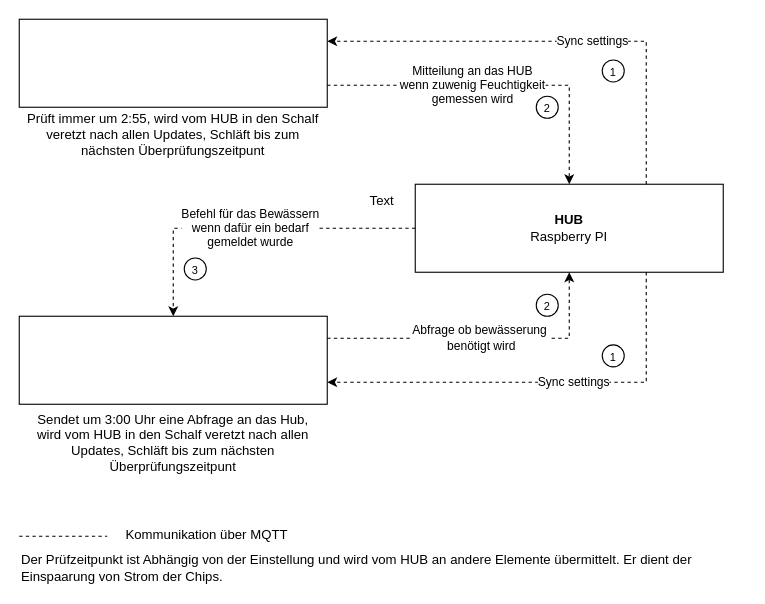
Image size: 765x604. Some labels were removed from this diagram. The centre of each missing label's shape, as x and y in pixels:
Sensor Feuchtigkeitssensor & Chip: [172,62]
Wassersteuerung Ventil & Chip: [172,359]
